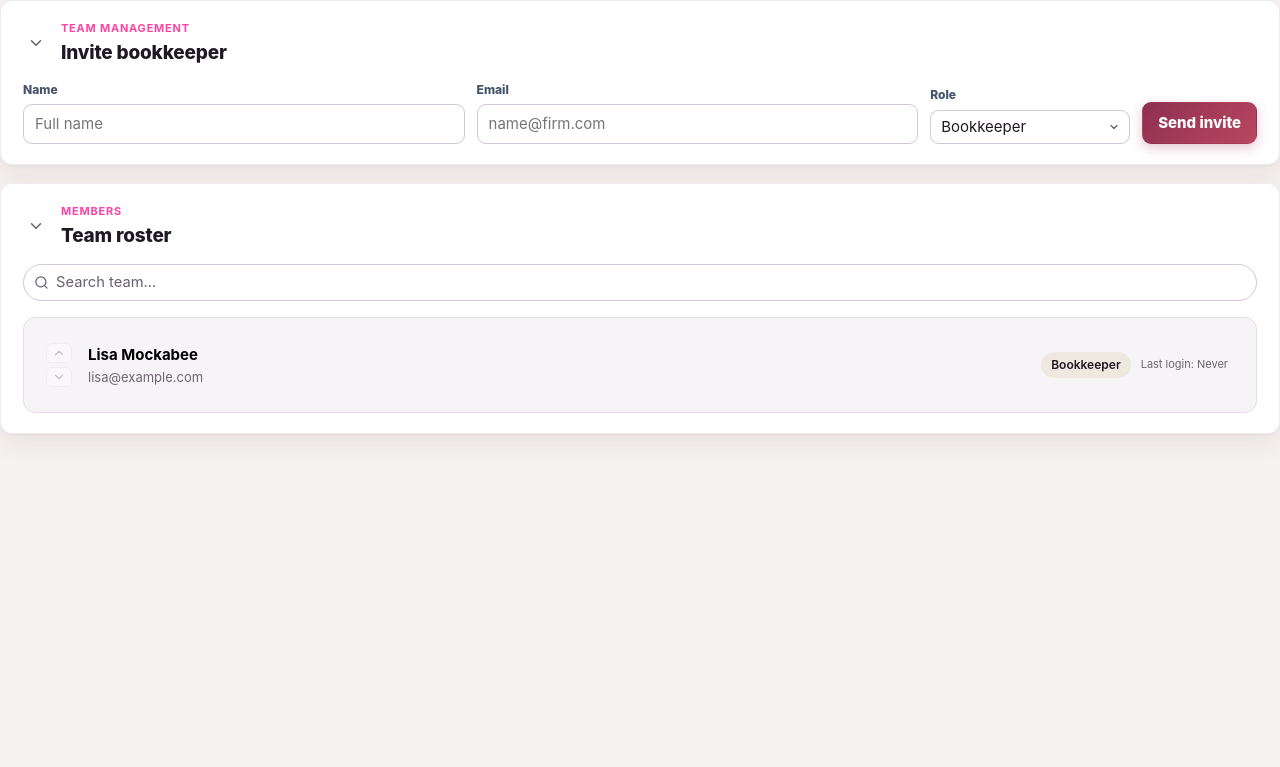
Scenario: suggestions › "Add all" saves once per suggested client and says how many landed
The image size is (1280, 767).
Click the button with class "team-card-header": (143, 354) [72,330,1244,400]
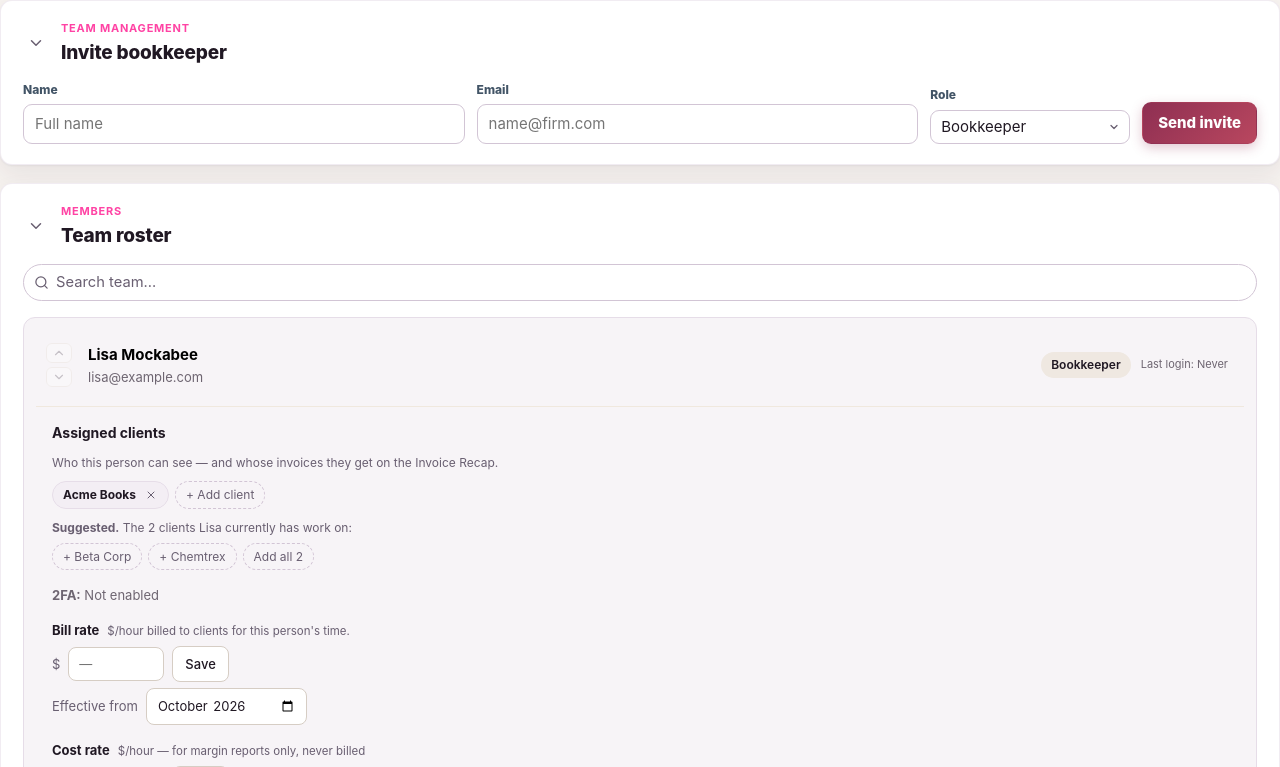
Now the heading "Assigned clients" is shown, box [52,424,166,441]
Click the button "Add all 2": (278, 556) [242,542,314,570]
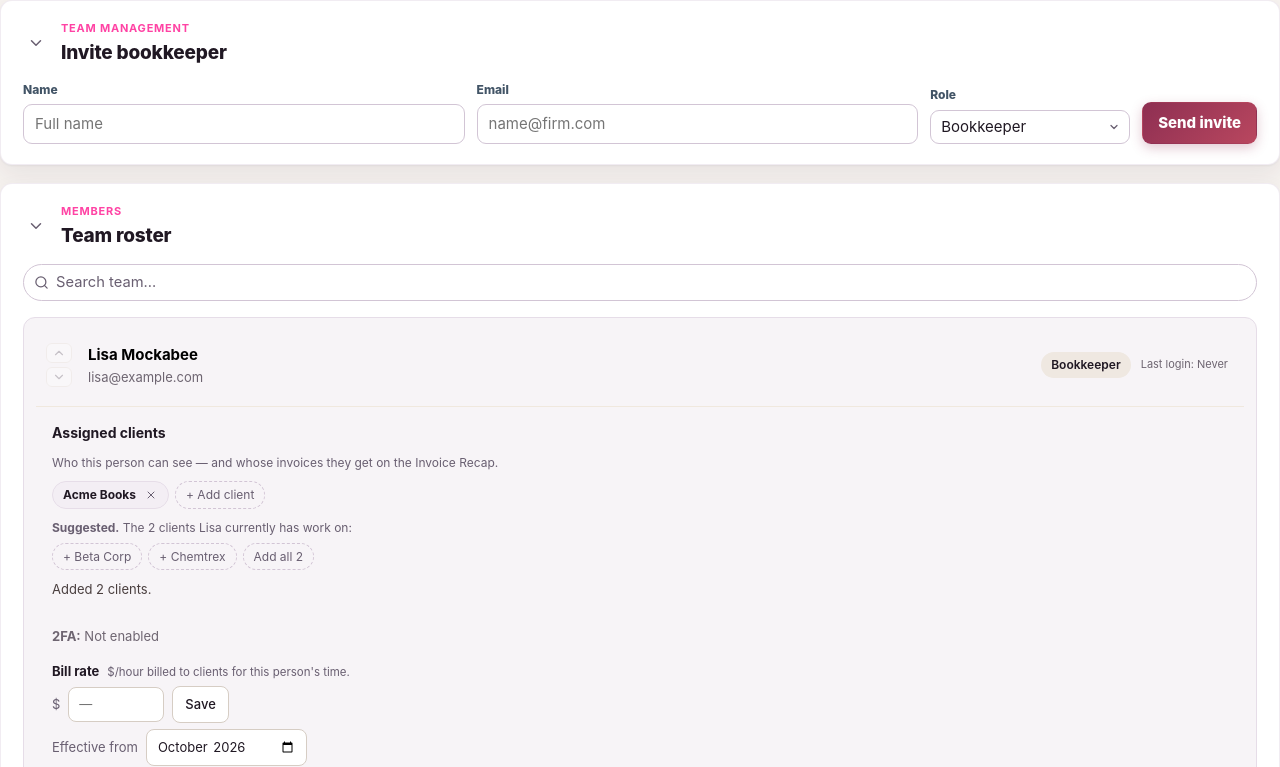
Now the text "Added 2 clients." is shown, box [52,581,151,597]
